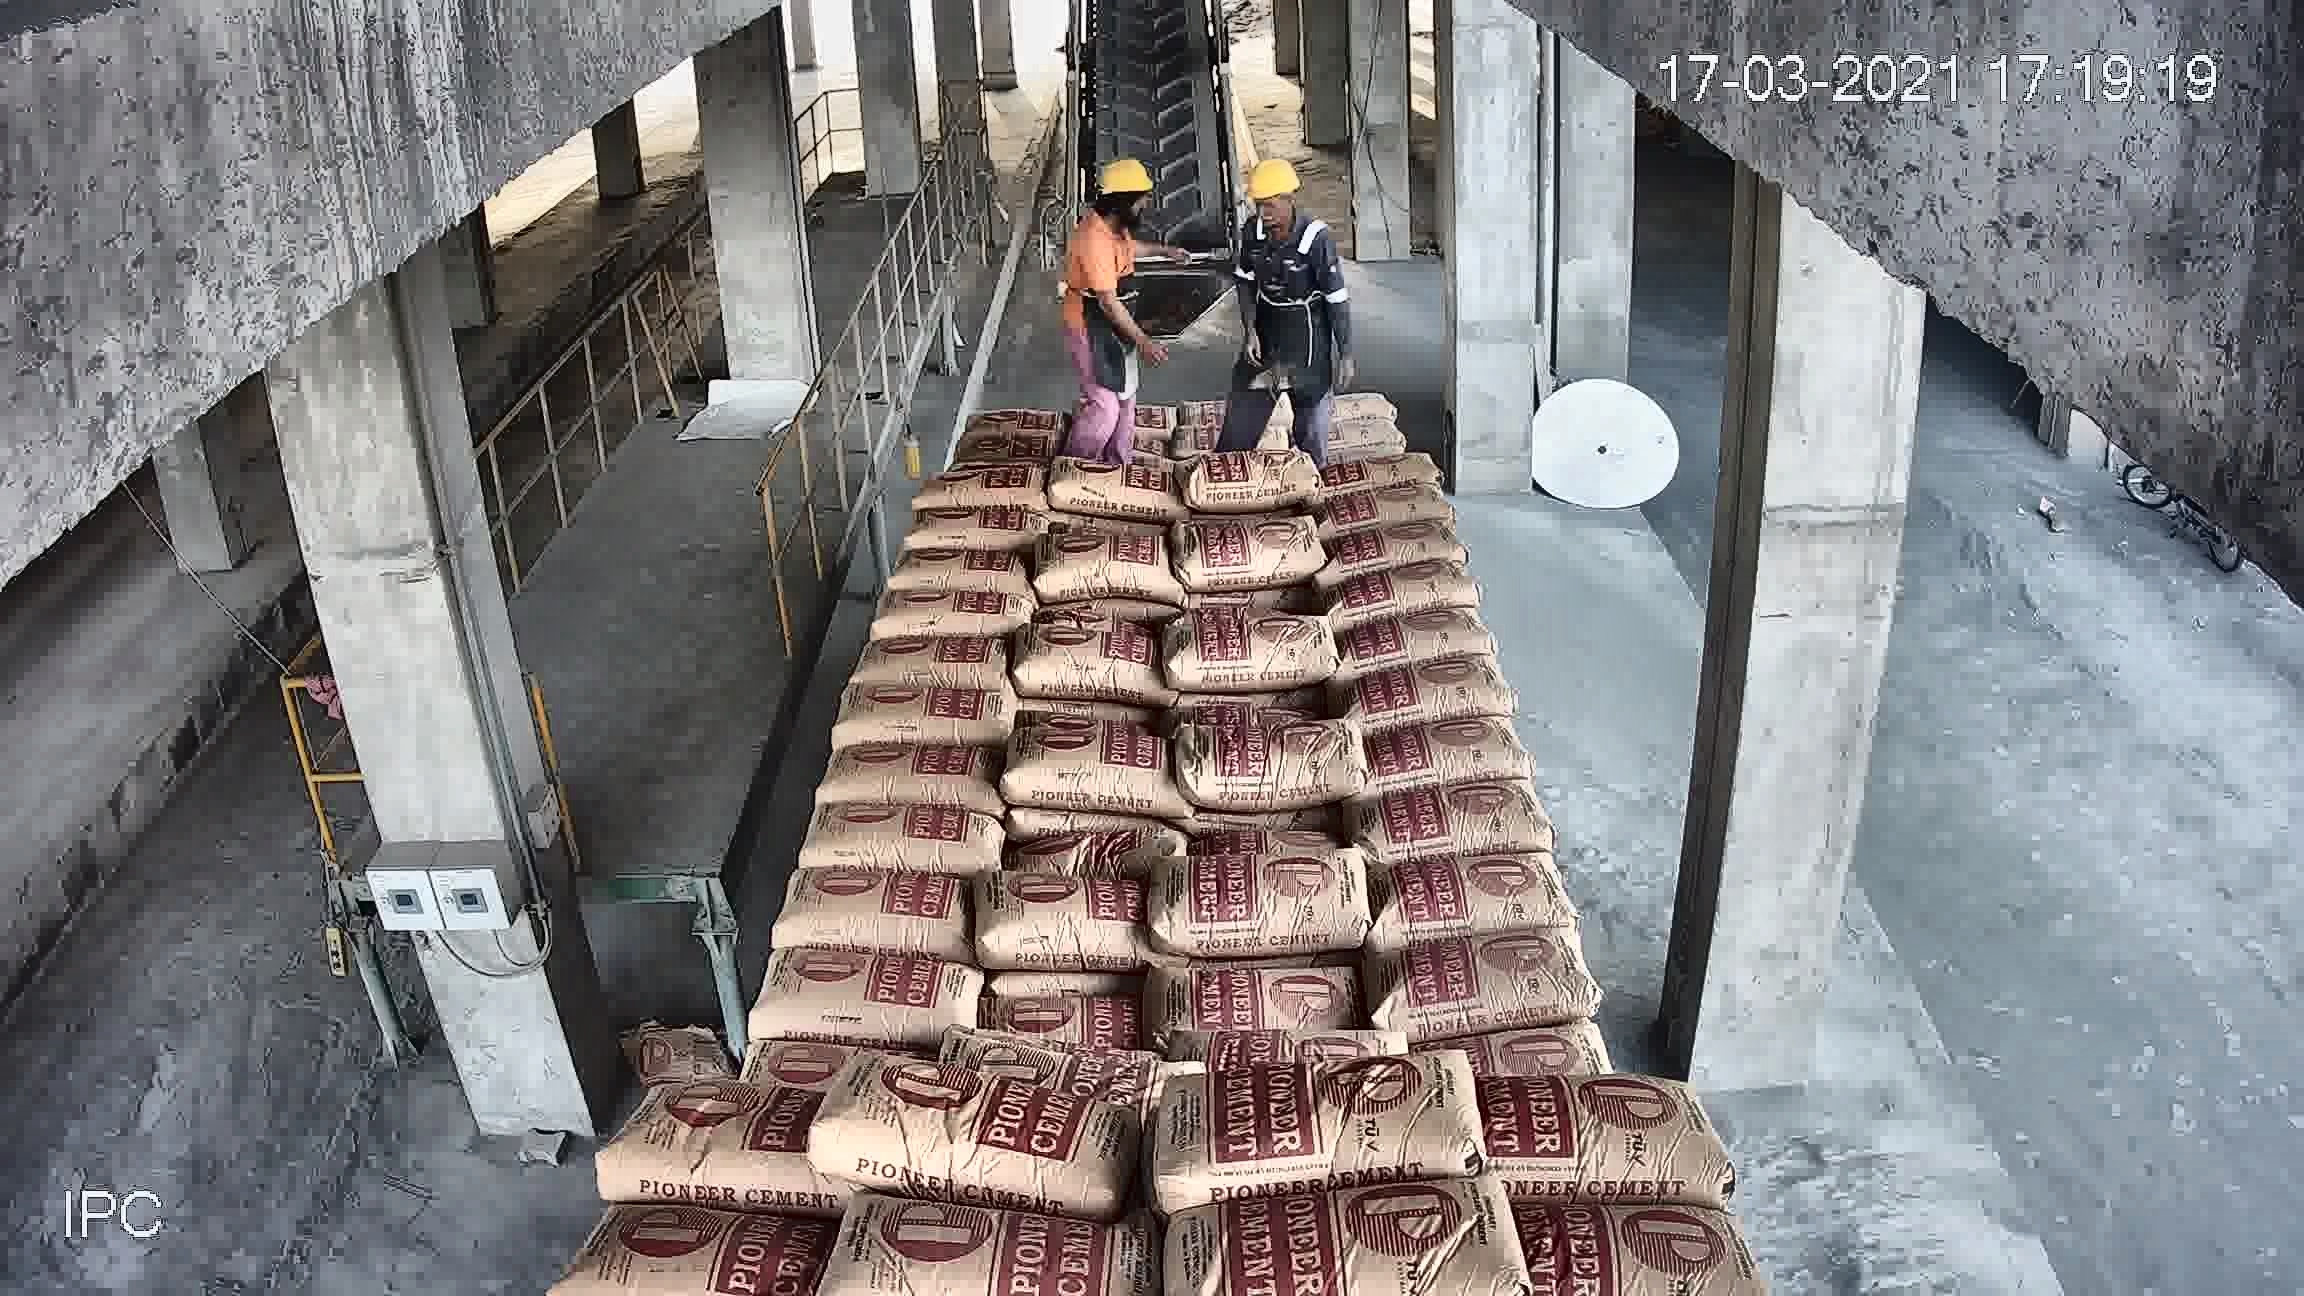bag_h: (1128, 1041, 1476, 1211), (812, 1067, 1146, 1223), (1169, 1158, 1514, 1287), (1489, 1065, 1719, 1217), (824, 1207, 1166, 1287), (579, 1090, 804, 1204), (1366, 929, 1593, 1038), (1146, 848, 1375, 953), (1538, 1187, 1764, 1290), (1364, 766, 1544, 889), (1377, 848, 1600, 943), (739, 961, 978, 1048), (956, 1013, 1196, 1092), (1324, 654, 1532, 745), (761, 875, 976, 959), (1353, 709, 1527, 809), (1155, 1013, 1424, 1074), (978, 881, 1165, 970), (793, 791, 994, 873), (1158, 946, 1358, 1029), (1190, 717, 1362, 809), (559, 1225, 820, 1280), (812, 741, 994, 815), (1169, 612, 1340, 692), (999, 731, 1177, 805), (1184, 506, 1331, 597), (1434, 1002, 1616, 1073), (824, 680, 1041, 736), (1014, 812, 1188, 877), (1044, 519, 1180, 601), (1173, 437, 1320, 511), (866, 570, 1021, 639), (980, 976, 1135, 1046), (1359, 604, 1503, 679), (839, 628, 1010, 688), (1329, 559, 1492, 620), (1010, 628, 1160, 695), (880, 541, 1040, 597), (1321, 517, 1465, 578), (889, 497, 1060, 548), (1051, 459, 1174, 524), (904, 462, 1049, 513), (1328, 441, 1449, 495), (1331, 483, 1454, 530), (956, 427, 1071, 468), (956, 407, 1054, 441), (1331, 407, 1407, 445), (1336, 377, 1402, 413)
belt: (1063, 19, 1244, 291)
